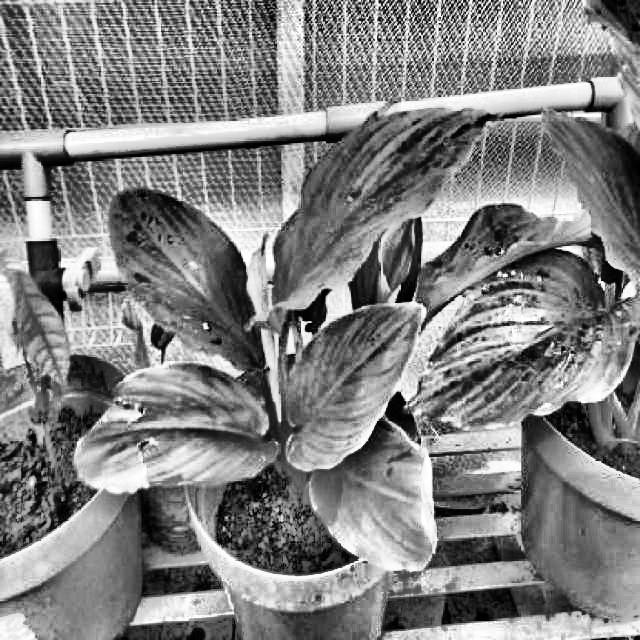plants: (75, 105, 588, 573), (407, 2, 640, 443)
